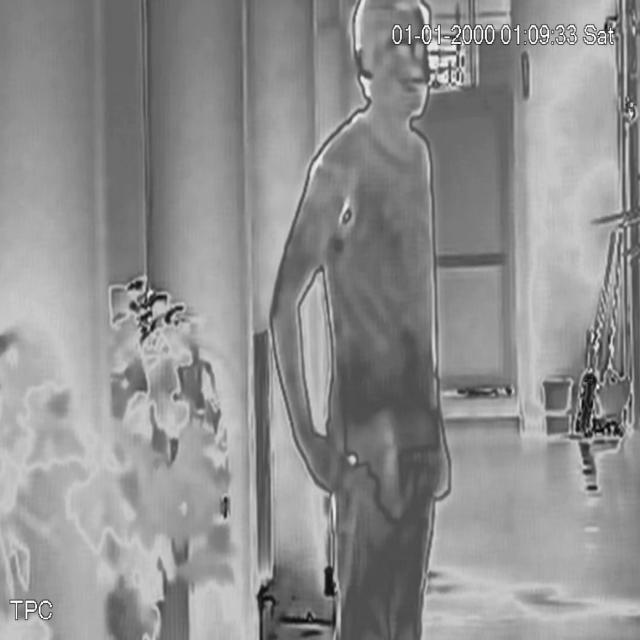Weapon: (336, 403, 420, 538)
